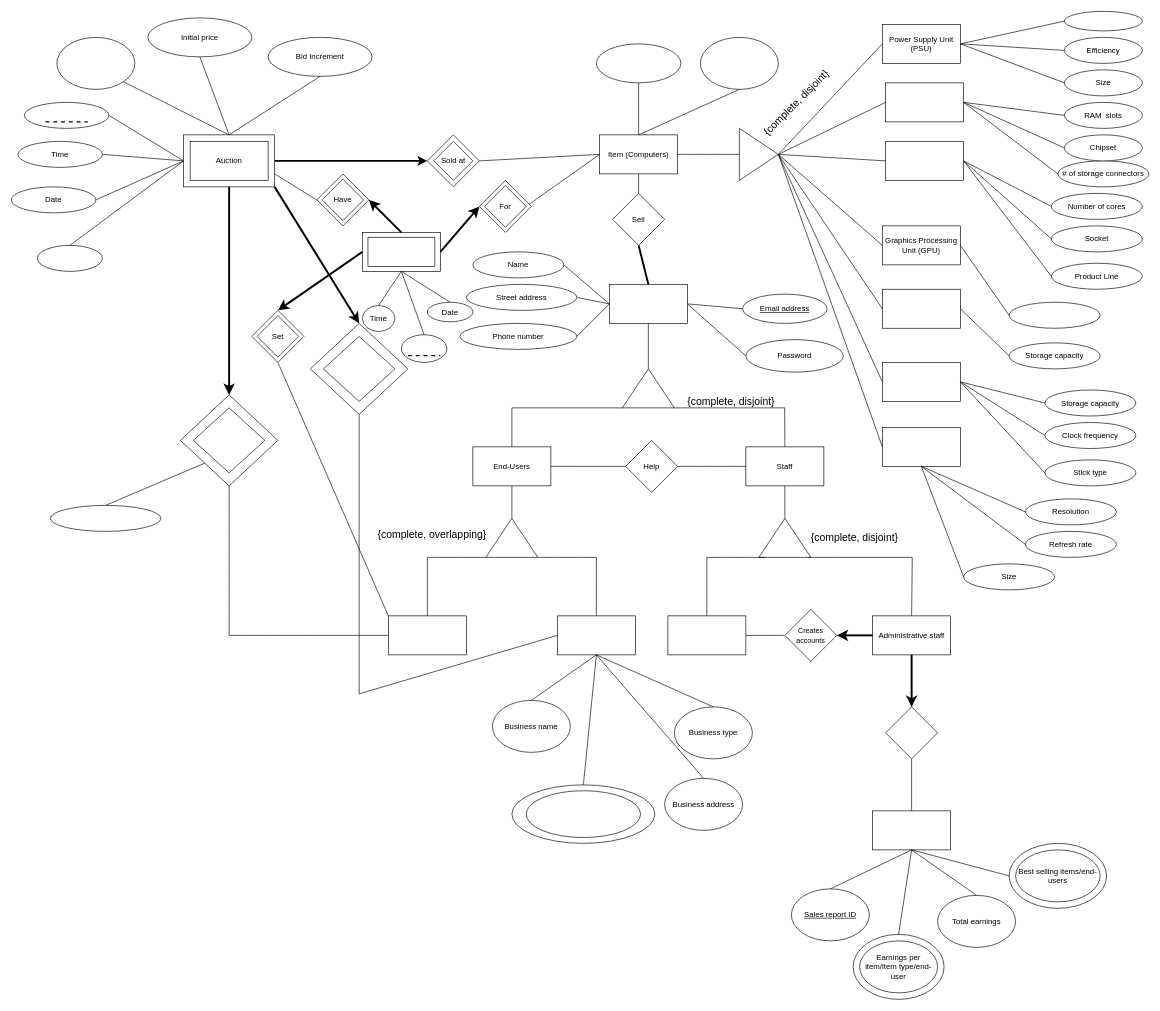
Some shapes in this 1160 by 1011 pixel diagram are drawn without their labels. The centre of each missing label's shape, as x and y in pixels:
"Alert" goes at point 401,251.
"Alert_ID" goes at point 424,348.
"Auction ID" goes at point 66,115.
"Bid" goes at point 69,258.
"Buyers" goes at point 427,635.
"Central Processing Unit (CPU)" goes at point 924,160.
"Creates" goes at point 911,732.
"Customer Representatives" goes at point 706,635.
"Description" goes at point 739,63.
"Hard Drive" goes at point 921,308.
"Item ID" goes at point 638,63.
"Minimum price" goes at point 95,63.
"Monitor" goes at point 921,446.
"Motherboard" goes at point 924,102.
"Owners/officers/directors/account managers" goes at point 583,814.
"Post bids" goes at point 229,440.
"Post items" goes at point 359,368.
"Random Access Memory (RAM)" goes at point 921,381.
"Sales report" goes at point 911,830.
"Sellers" goes at point 596,635.
"Upper limit for bids" goes at point 105,518.
"Users" goes at point 648,303.
"Video memory (VRAM)" goes at point 1054,315.
"Watts" goes at point 1103,21.
